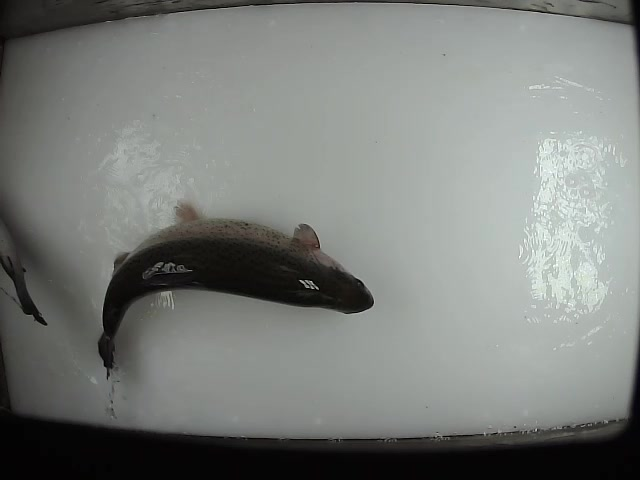fish: (96, 193, 377, 383), (1, 213, 51, 327)
